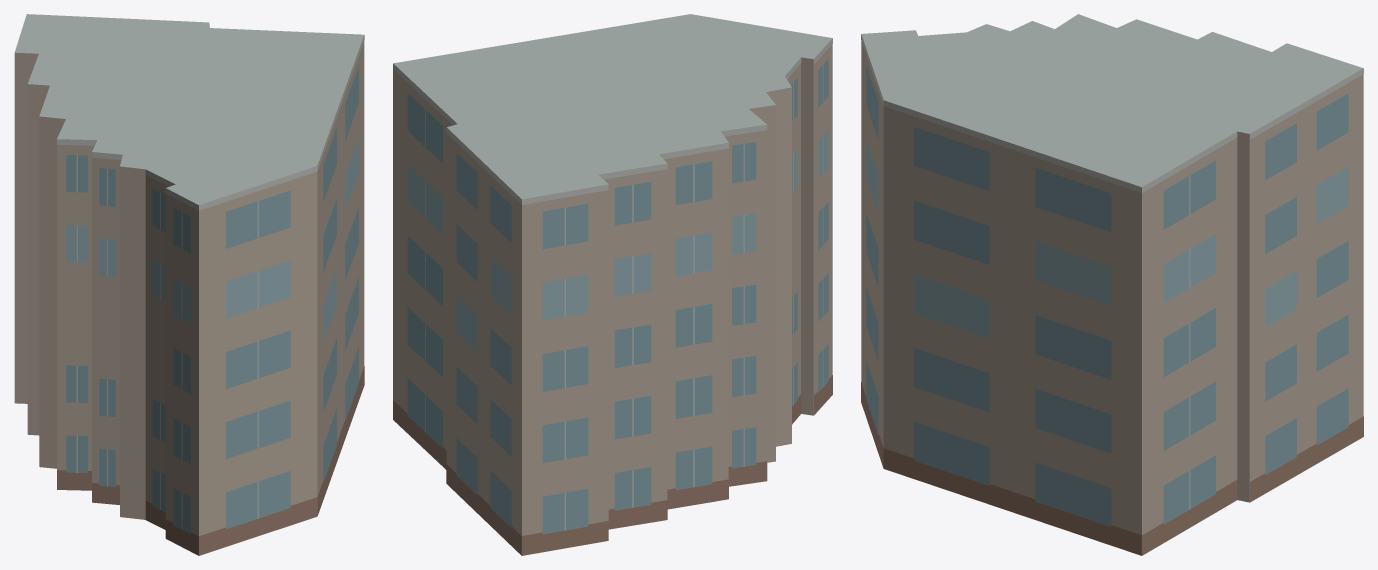
The model's file is survey-upis-32672732.glb.
3 renders of one model, left to right at view 1: azimuth 30°, elevation 25°; view 2: azimuth 150°, elevation 25°; view 3: azimuth 270°, elevation 25°, orthographic. The views are drawn at different scales.
Parts seen in each view (by area): view 1: survey-upis-32672732.tmp; view 2: survey-upis-32672732.tmp; view 3: survey-upis-32672732.tmp.
Part boxes in pixels (<box>): survey-upis-32672732.tmp: <box>14,14,364,555</box>; survey-upis-32672732.tmp: <box>393,14,832,555</box>; survey-upis-32672732.tmp: <box>861,14,1363,555</box>.
Bounding box in the file's own units: 15.33 × 15.2 × 18.79.
